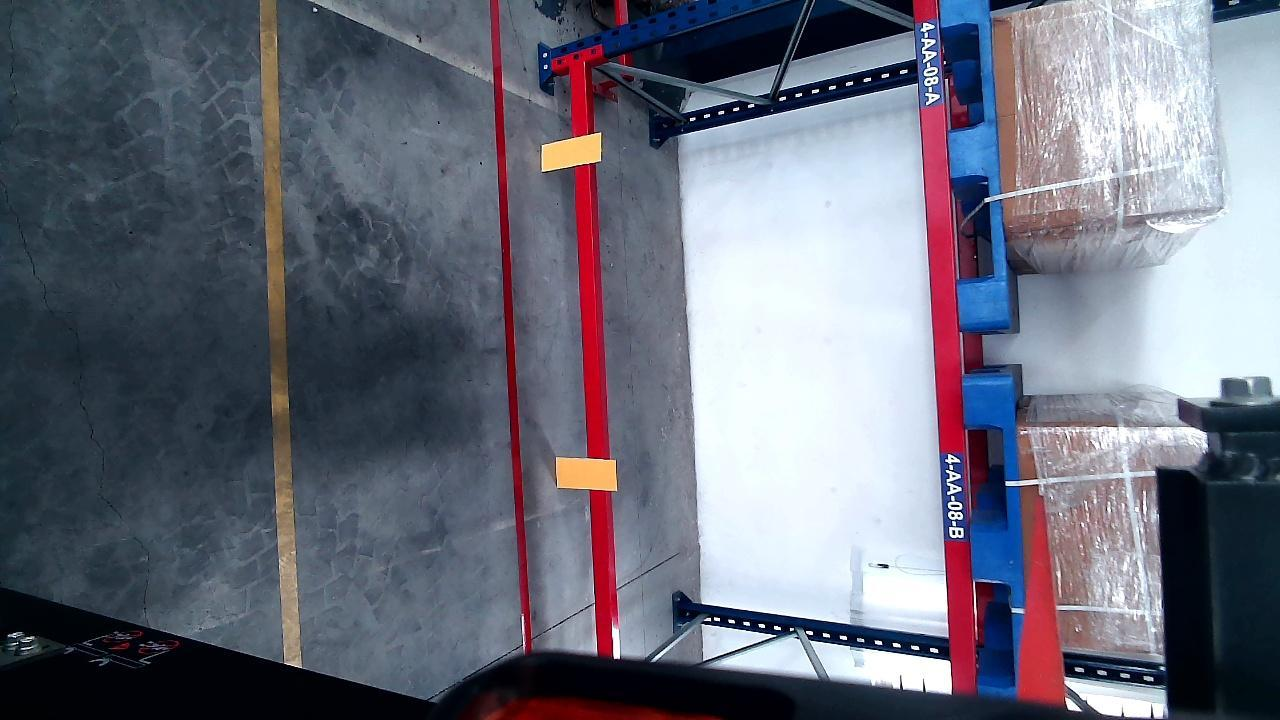red_line: (489, 0, 535, 653)
yellow_line: (261, 5, 299, 670)
